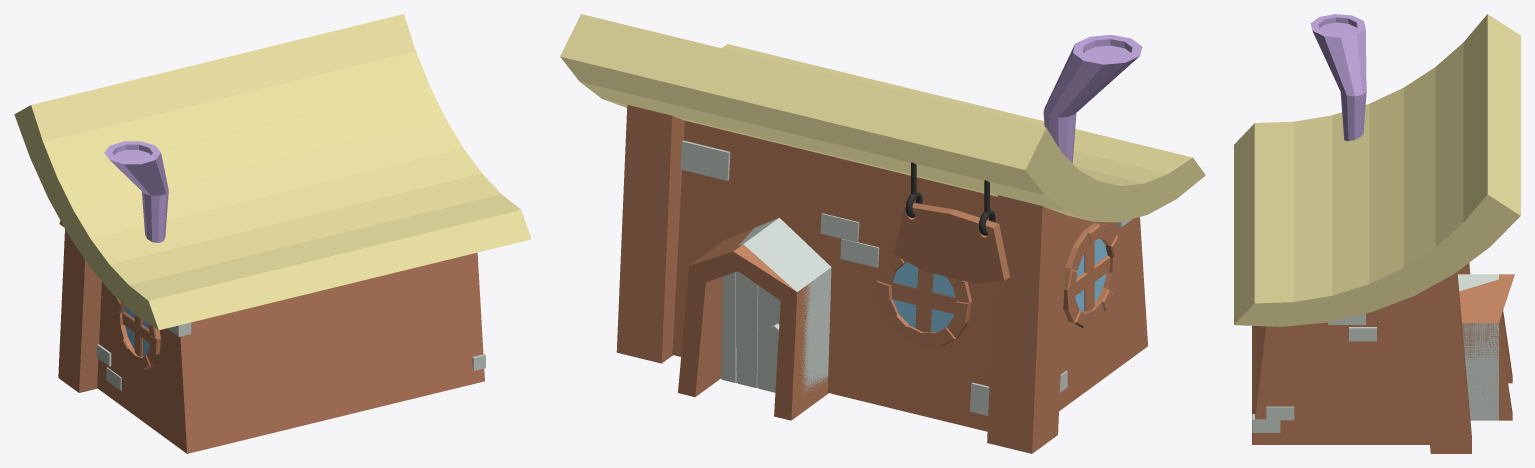
The model's file is House 1.fbx.
3 views of the same model, side by side, from view 1: azimuth 30°, elevation 25°; view 2: azimuth 150°, elevation 25°; view 3: azimuth 270°, elevation 25° (orthographic). The views are drawn at different scales.
Parts seen in each view (by area): view 1: Arc; view 2: Arc, Polygon.001; view 3: Arc, Polygon.001.
Part boxes in pixels (<box>): Arc: <box>14,14,531,453</box>; Arc: <box>560,14,1205,453</box>; Polygon.001: <box>738,217,831,396</box>; Arc: <box>1234,14,1520,453</box>; Polygon.001: <box>1457,274,1498,420</box>.
Size of the model in its own units: 796 by 557 by 535.
